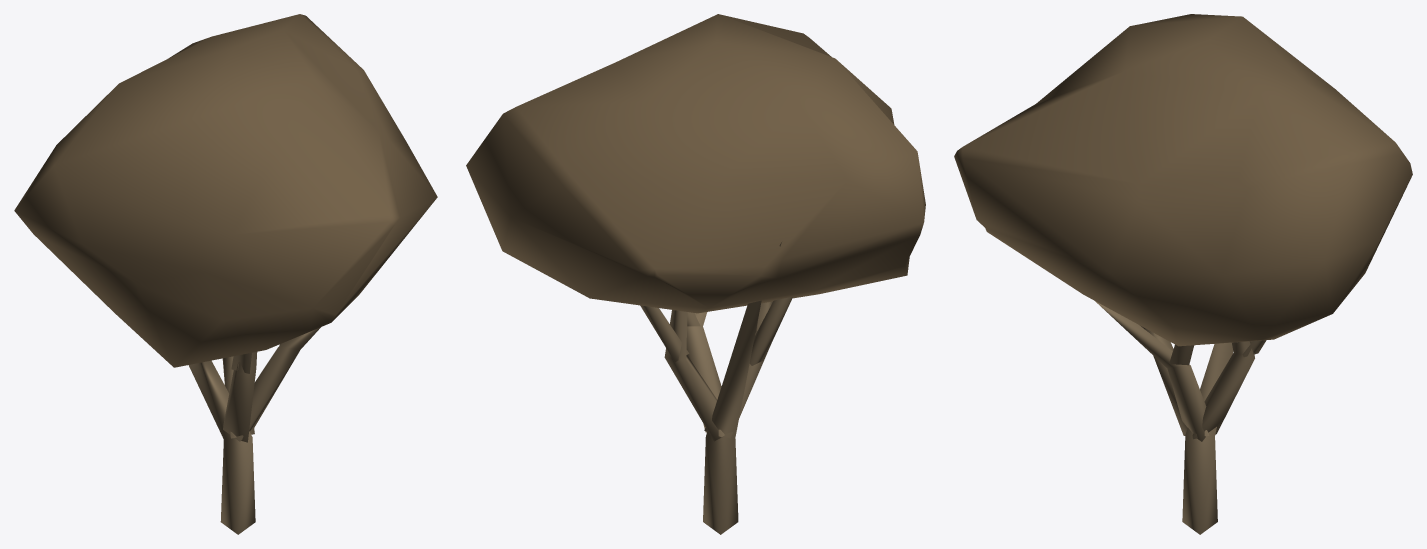
The model's file is Bush small DQ.fbx.
3 renders of one model, left to right at view 1: azimuth 30°, elevation 25°; view 2: azimuth 150°, elevation 25°; view 3: azimuth 270°, elevation 25°, orthographic. The views are drawn at different scales.
Parts seen in each view (by area): view 1: Icosphere; view 2: Icosphere; view 3: Icosphere.
Part boxes in pixels (x1,y1,x2,y2): Icosphere: (14,14,437,534); Icosphere: (466,14,925,534); Icosphere: (954,14,1412,534).
Bounding box in the file's own units: 92.33 × 105 × 89.85.
